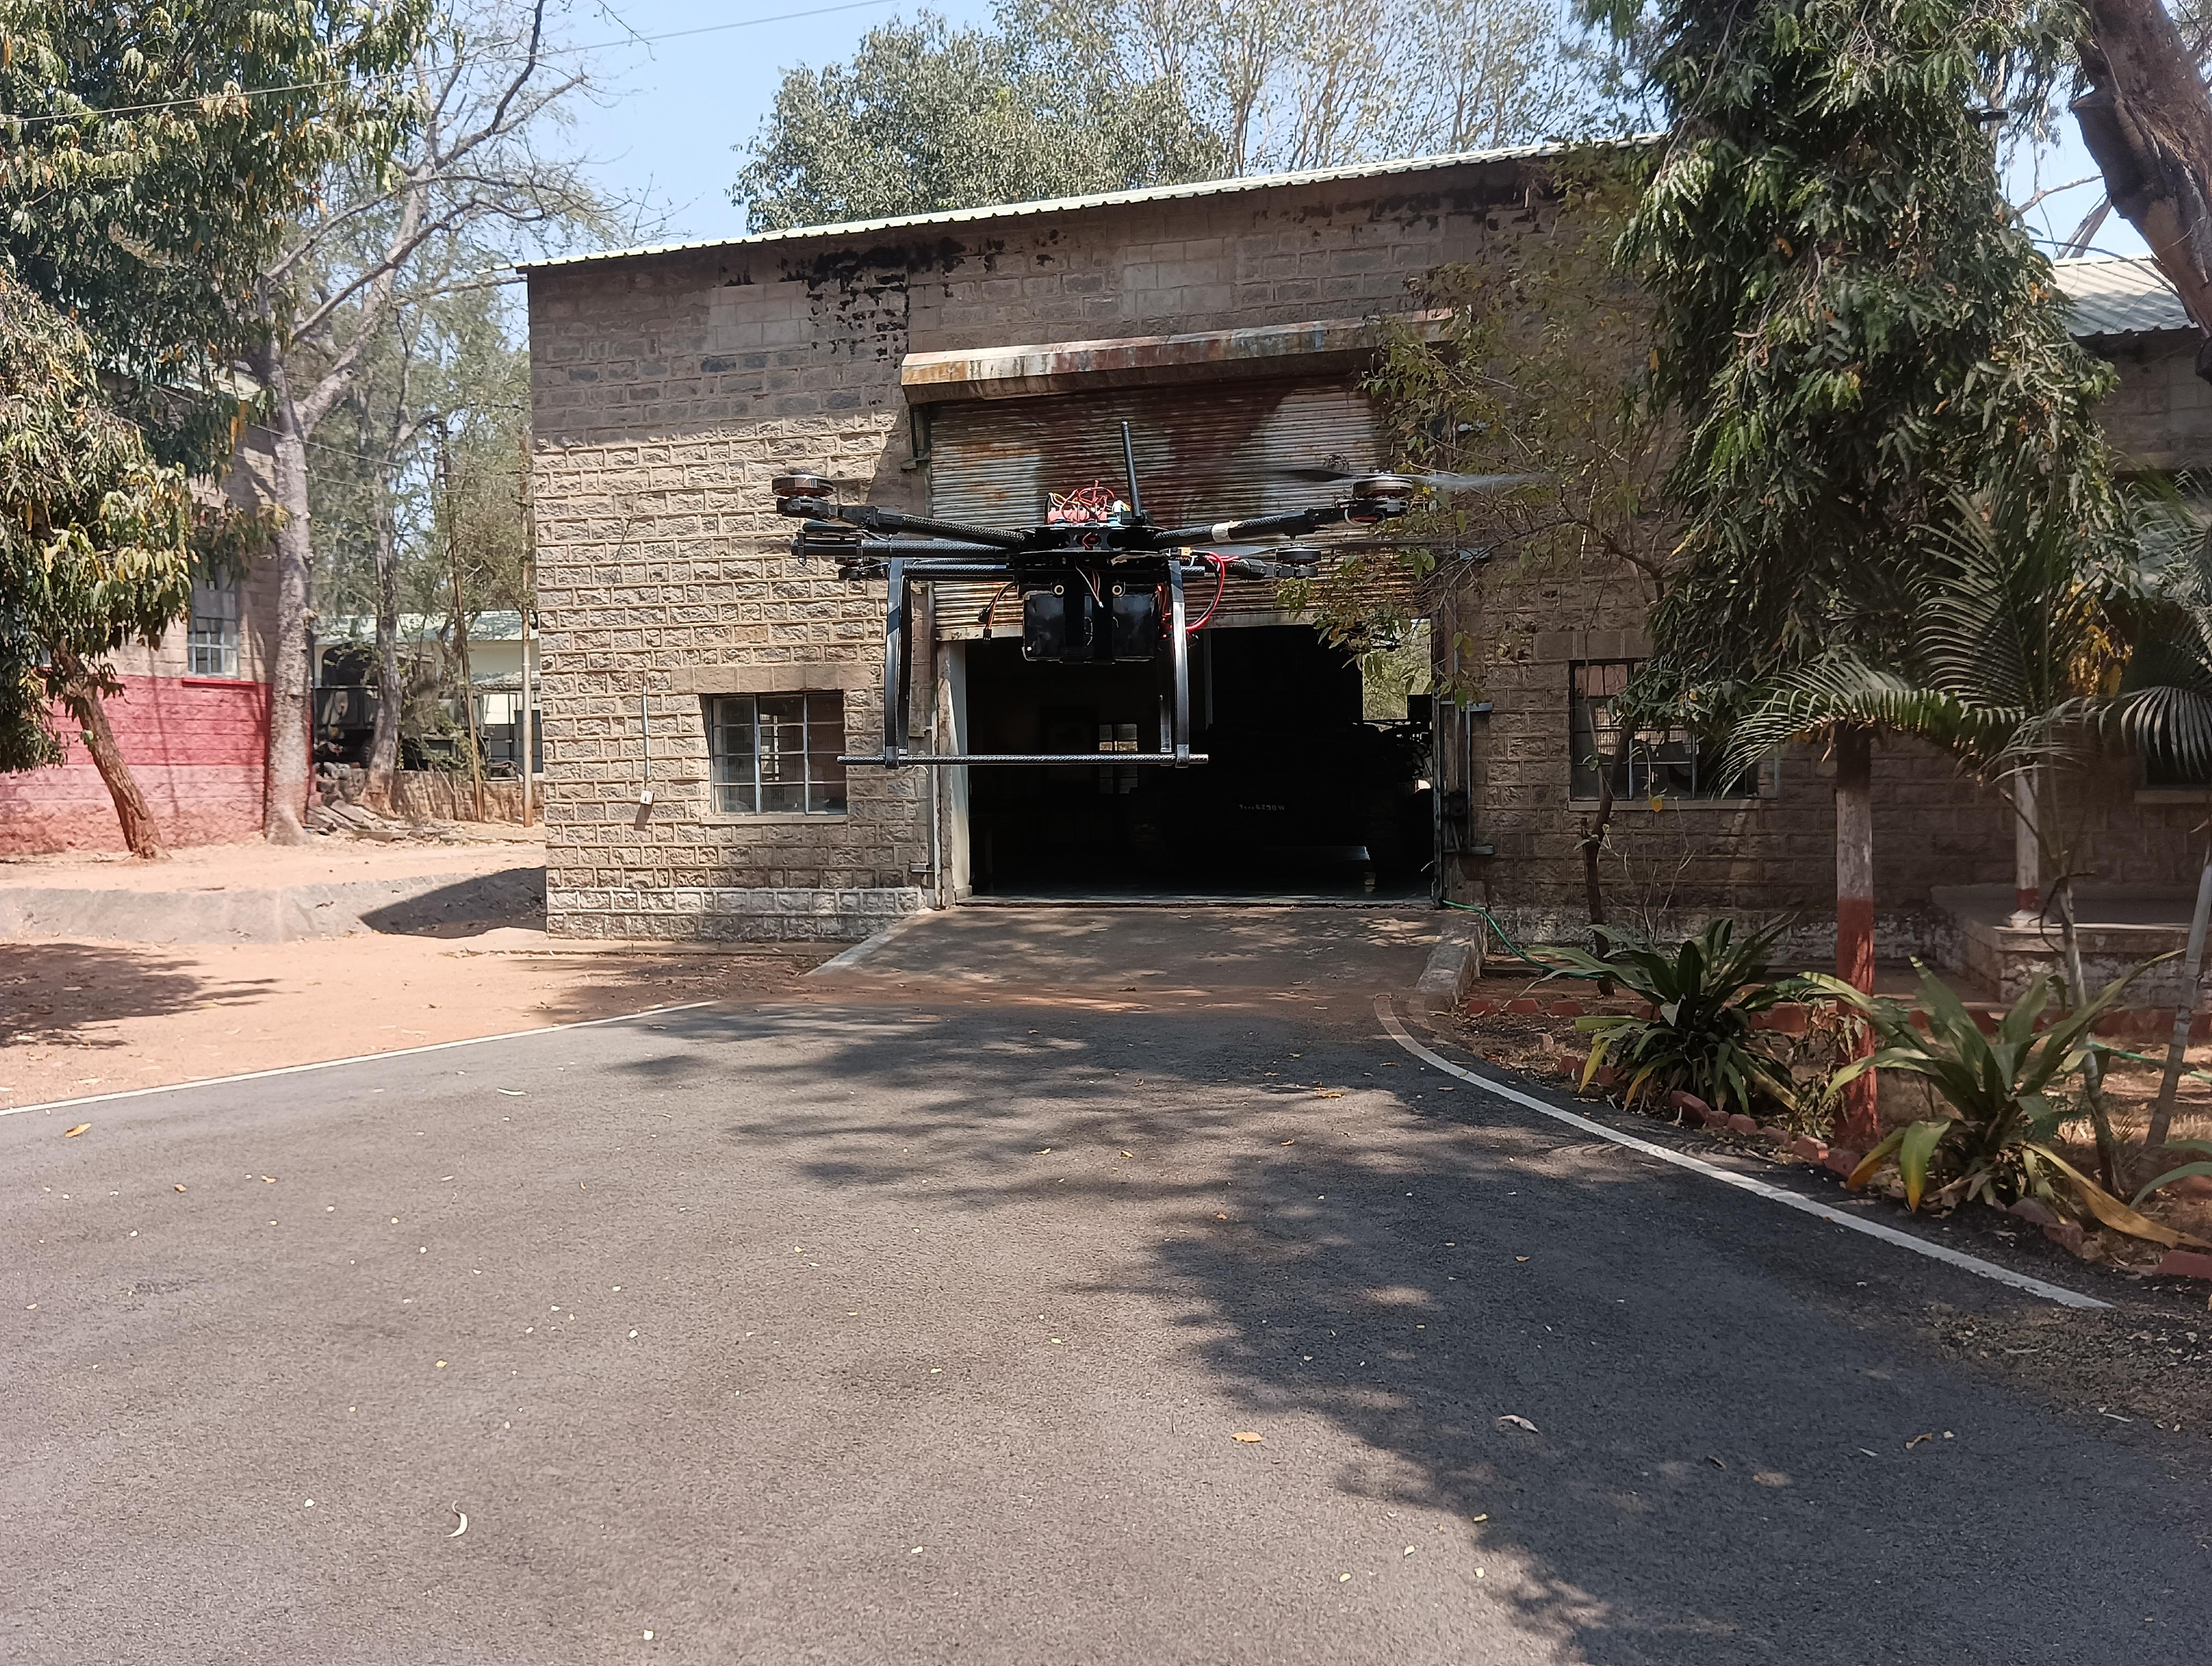drone: (717, 343, 1581, 852)
